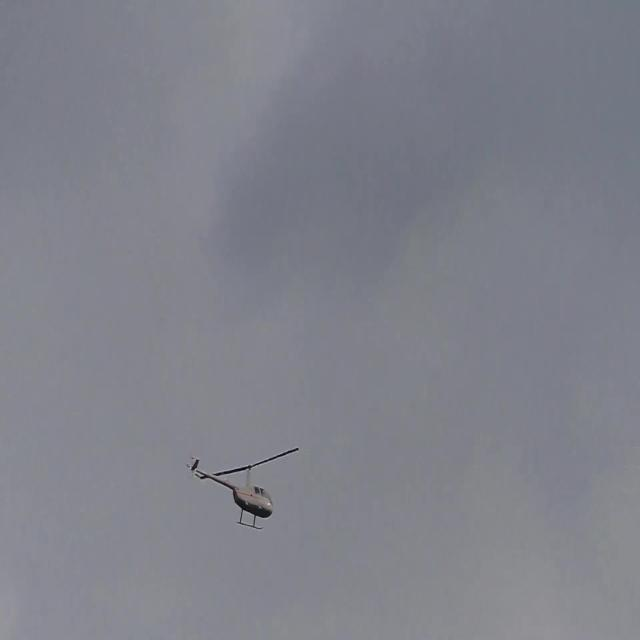CIV_HELO: (188, 452, 275, 532)
